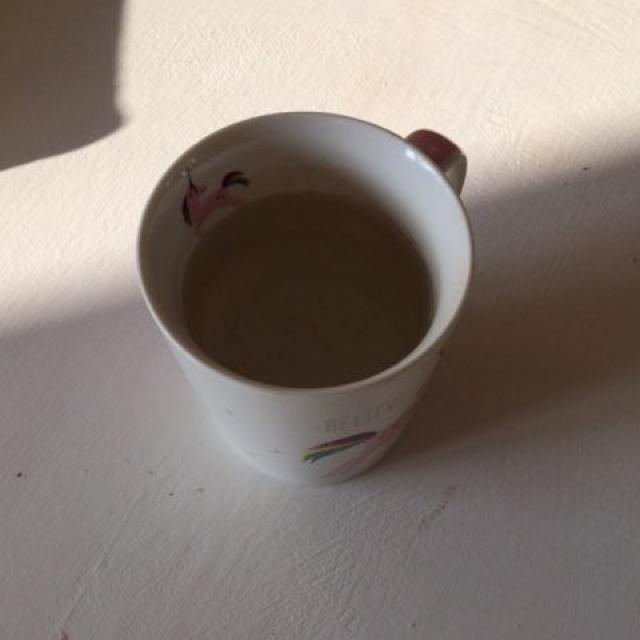tea: (185, 193, 426, 385)
